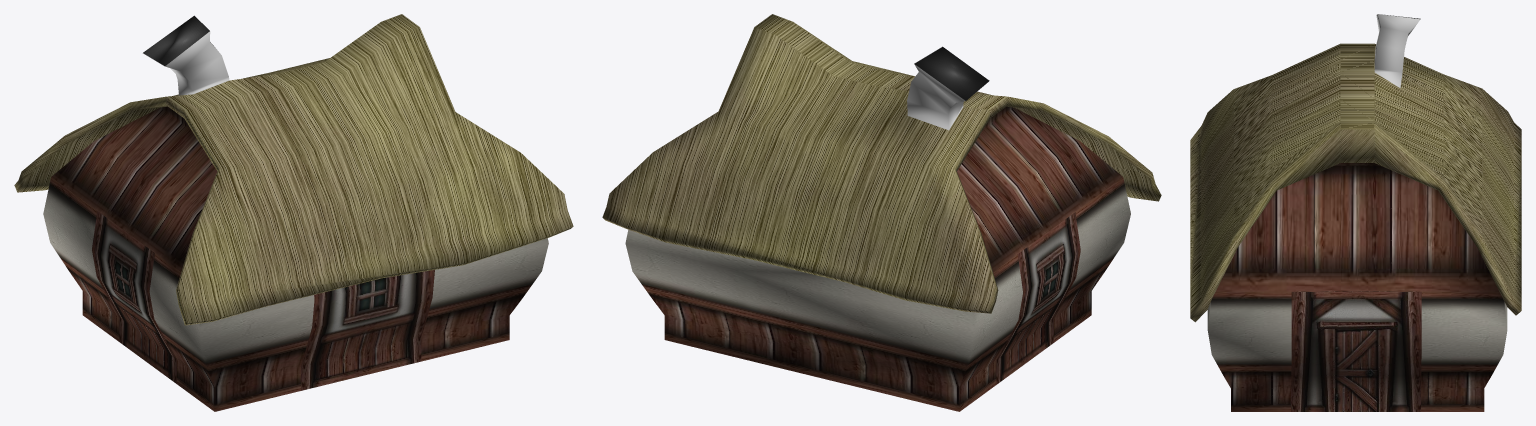
Rendered from house5.fbx.
3 views of the same model, side by side, from view 1: azimuth 30°, elevation 25°; view 2: azimuth 150°, elevation 25°; view 3: azimuth 270°, elevation 25° (orthographic). The views are drawn at different scales.
Parts seen in each view (by area): view 1: U3DMesh; view 2: U3DMesh; view 3: U3DMesh.
Boxes of the visible parts, <box> form: U3DMesh: <box>14,14,573,411</box>; U3DMesh: <box>602,14,1161,411</box>; U3DMesh: <box>1190,14,1521,411</box>.
Size of the model in its own units: 16.81 by 12.78 by 13.06.
